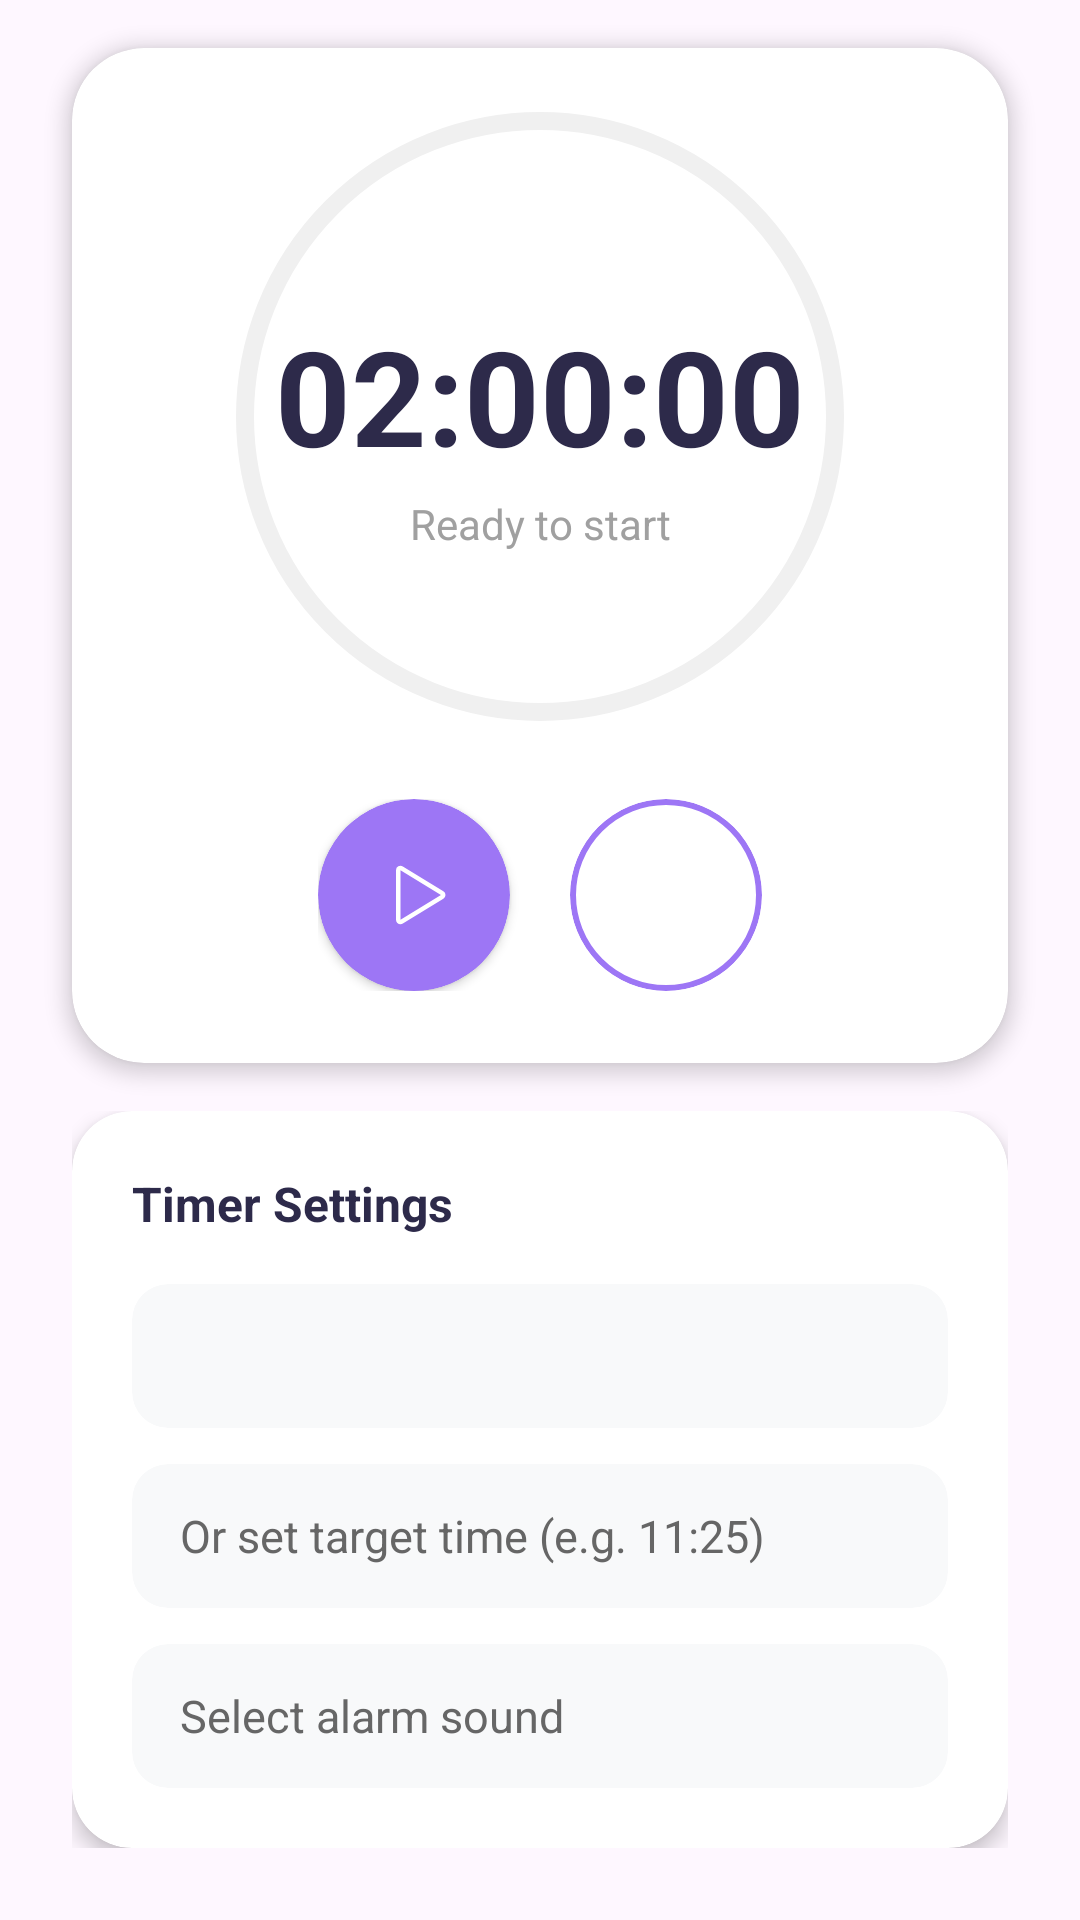

Icons on this 1080w x 1920h Android screen, each with the point to tap as (x,y):
play: (421,895)
